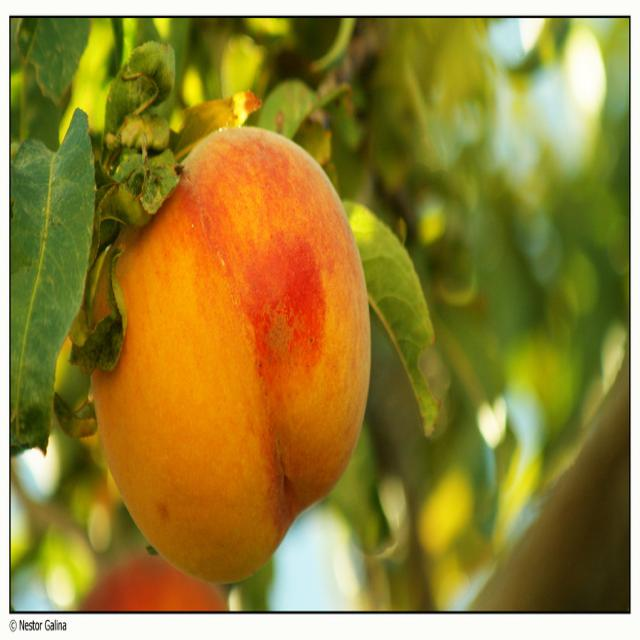Peach: (80, 121, 370, 585), (80, 554, 228, 618)
